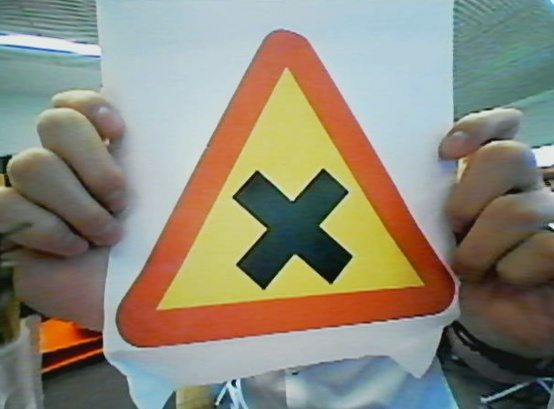junction: (116, 21, 469, 347)
